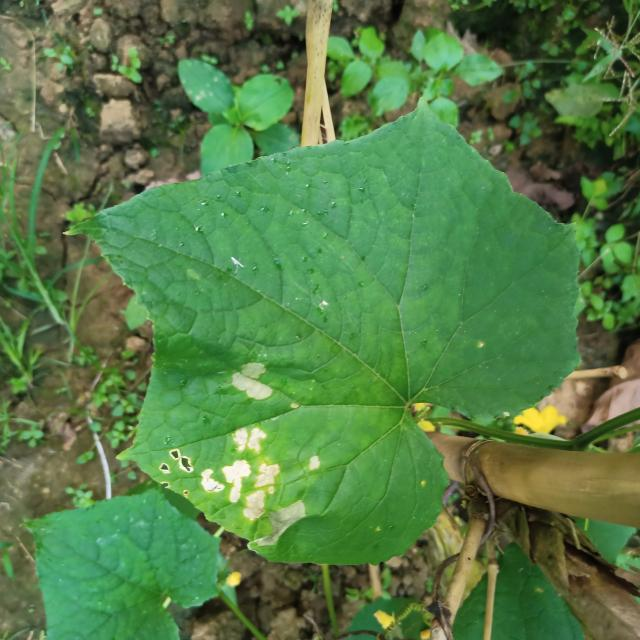disease_cucumber: (167, 423, 323, 552), (224, 356, 278, 404)
